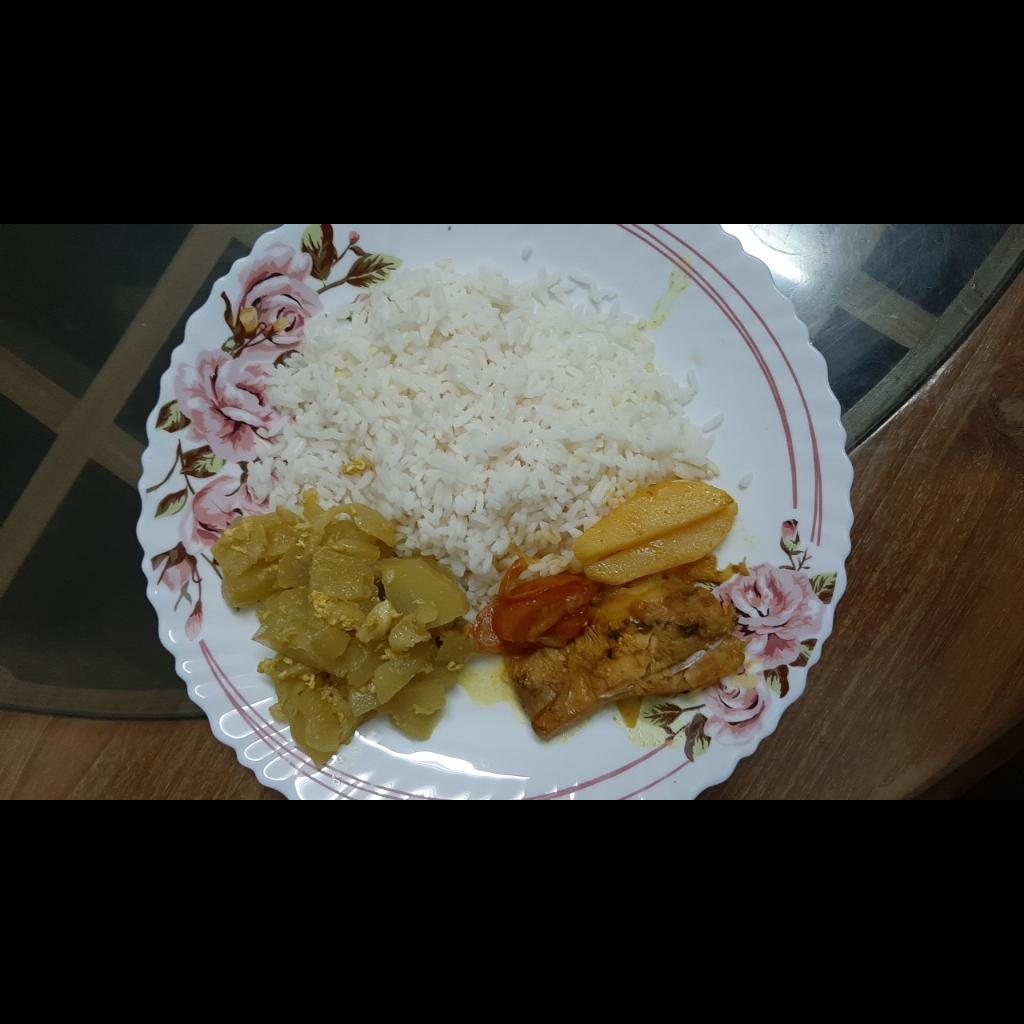fish: (52, 733, 212, 975)
lau: (26, 432, 315, 699)
potato: (186, 795, 320, 963)
rice: (179, 469, 540, 943)
tomato: (144, 689, 241, 824)
